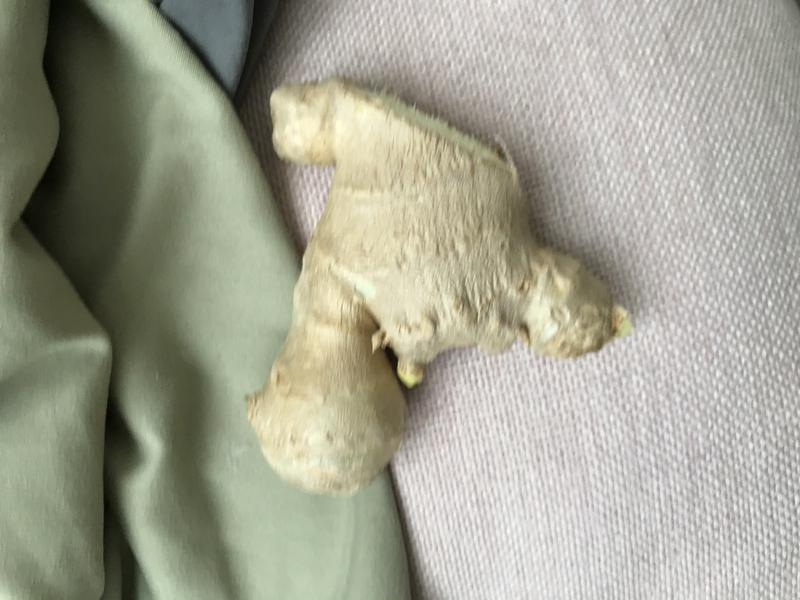ginger: (241, 66, 643, 500)
